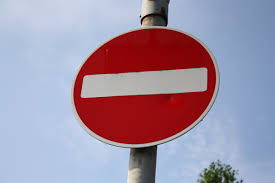No entry: (70, 26, 221, 149)
